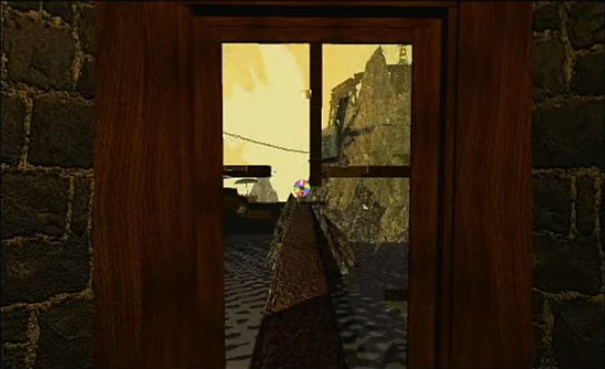Waiting: (289, 176, 312, 198)
